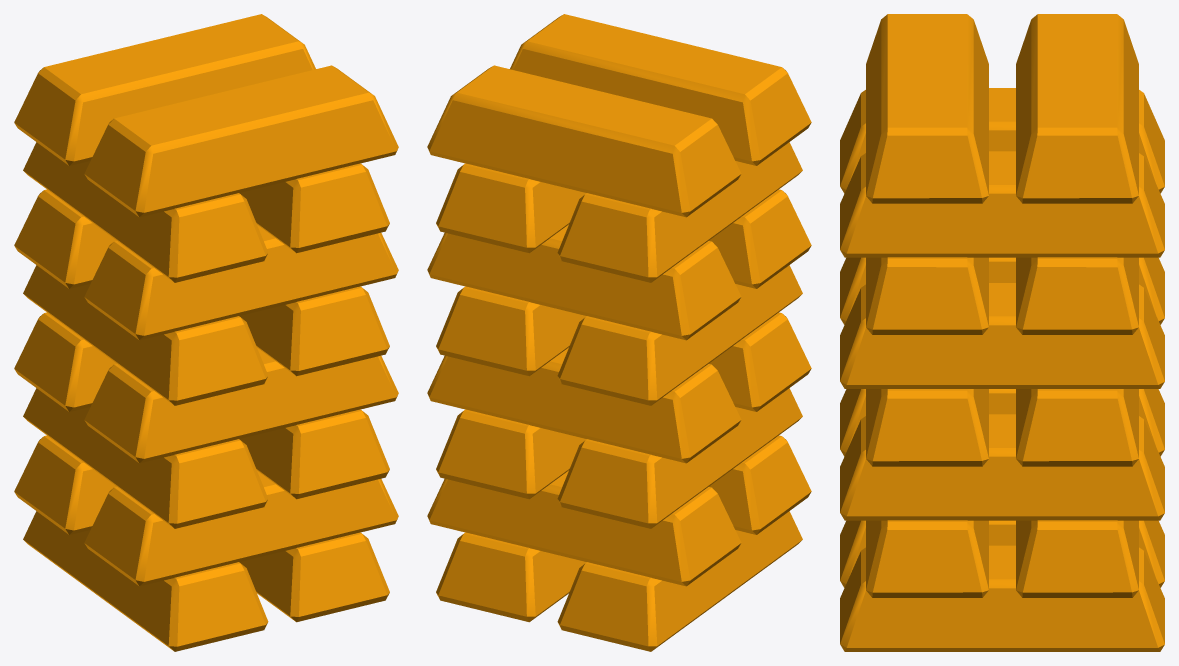
Rendered from SM_Gold_Bar_8_stack.fbx.
The picture shows the model from 3 angles, left to right: view 1: azimuth 30°, elevation 25°; view 2: azimuth 150°, elevation 25°; view 3: azimuth 270°, elevation 25°; orthographic projection. The views are drawn at different scales.
Visible parts, largest first — view 1: Gold_Bar12, Gold_Bar13, Gold_Bar05, Gold_Bar09, Gold_Bar01, Gold_Bar08, Gold_Bar15, Gold_Bar11, Gold_Bar04, Gold_Bar07, Gold_Bar10, Gold_Bar14 (+4 smaller); view 2: Gold_Bar13, Gold_Bar12, Gold_Bar06, Gold_Bar16, Gold_Bar02, Gold_Bar08, Gold_Bar15, Gold_Bar11, Gold_Bar04, Gold_Bar10, Gold_Bar14, Gold_Bar03 (+4 smaller); view 3: Gold_Bar12, Gold_Bar13, Gold_Bar03, Gold_Bar14, Gold_Bar07, Gold_Bar10, Gold_Bar01, Gold_Bar02, Gold_Bar09, Gold_Bar16, Gold_Bar05, Gold_Bar06 (+4 smaller).
Part boxes in pixels (x1,y1,x2,y2): Gold_Bar12: (84,65,398,217); Gold_Bar13: (14,14,315,165); Gold_Bar05: (84,347,398,463); Gold_Bar09: (84,224,398,340); Gold_Bar01: (84,470,398,586); Gold_Bar08: (23,511,268,651); Gold_Bar15: (23,142,268,282); Gold_Bar11: (23,265,268,405); Gold_Bar04: (23,388,268,528); Gold_Bar07: (239,532,389,622); Gold_Bar10: (239,286,389,376); Gold_Bar14: (239,163,389,253); Gold_Bar13: (427,65,741,217); Gold_Bar12: (510,14,811,165); Gold_Bar06: (427,347,741,463); Gold_Bar16: (427,224,741,340); Gold_Bar02: (427,470,741,586); Gold_Bar08: (557,511,802,651); Gold_Bar15: (557,142,802,282); Gold_Bar11: (557,265,802,405); Gold_Bar04: (557,388,802,528); Gold_Bar10: (436,286,586,376); Gold_Bar14: (436,163,586,253); Gold_Bar03: (436,409,586,499); Gold_Bar12: (866,14,988,203); Gold_Bar13: (1016,14,1138,203); Gold_Bar03: (840,414,1164,520); Gold_Bar14: (840,151,1164,257); Gold_Bar07: (840,545,1164,651); Gold_Bar10: (840,283,1164,388); Gold_Bar01: (866,520,988,597); Gold_Bar02: (1016,520,1138,597); Gold_Bar09: (866,257,988,334); Gold_Bar16: (1016,257,1138,334); Gold_Bar05: (866,389,988,466); Gold_Bar06: (1016,389,1138,466).
Bounding box in the file's own units: 0.1983 × 0.3543 × 0.1983.
Materials: 1 (1 with a texture image).
